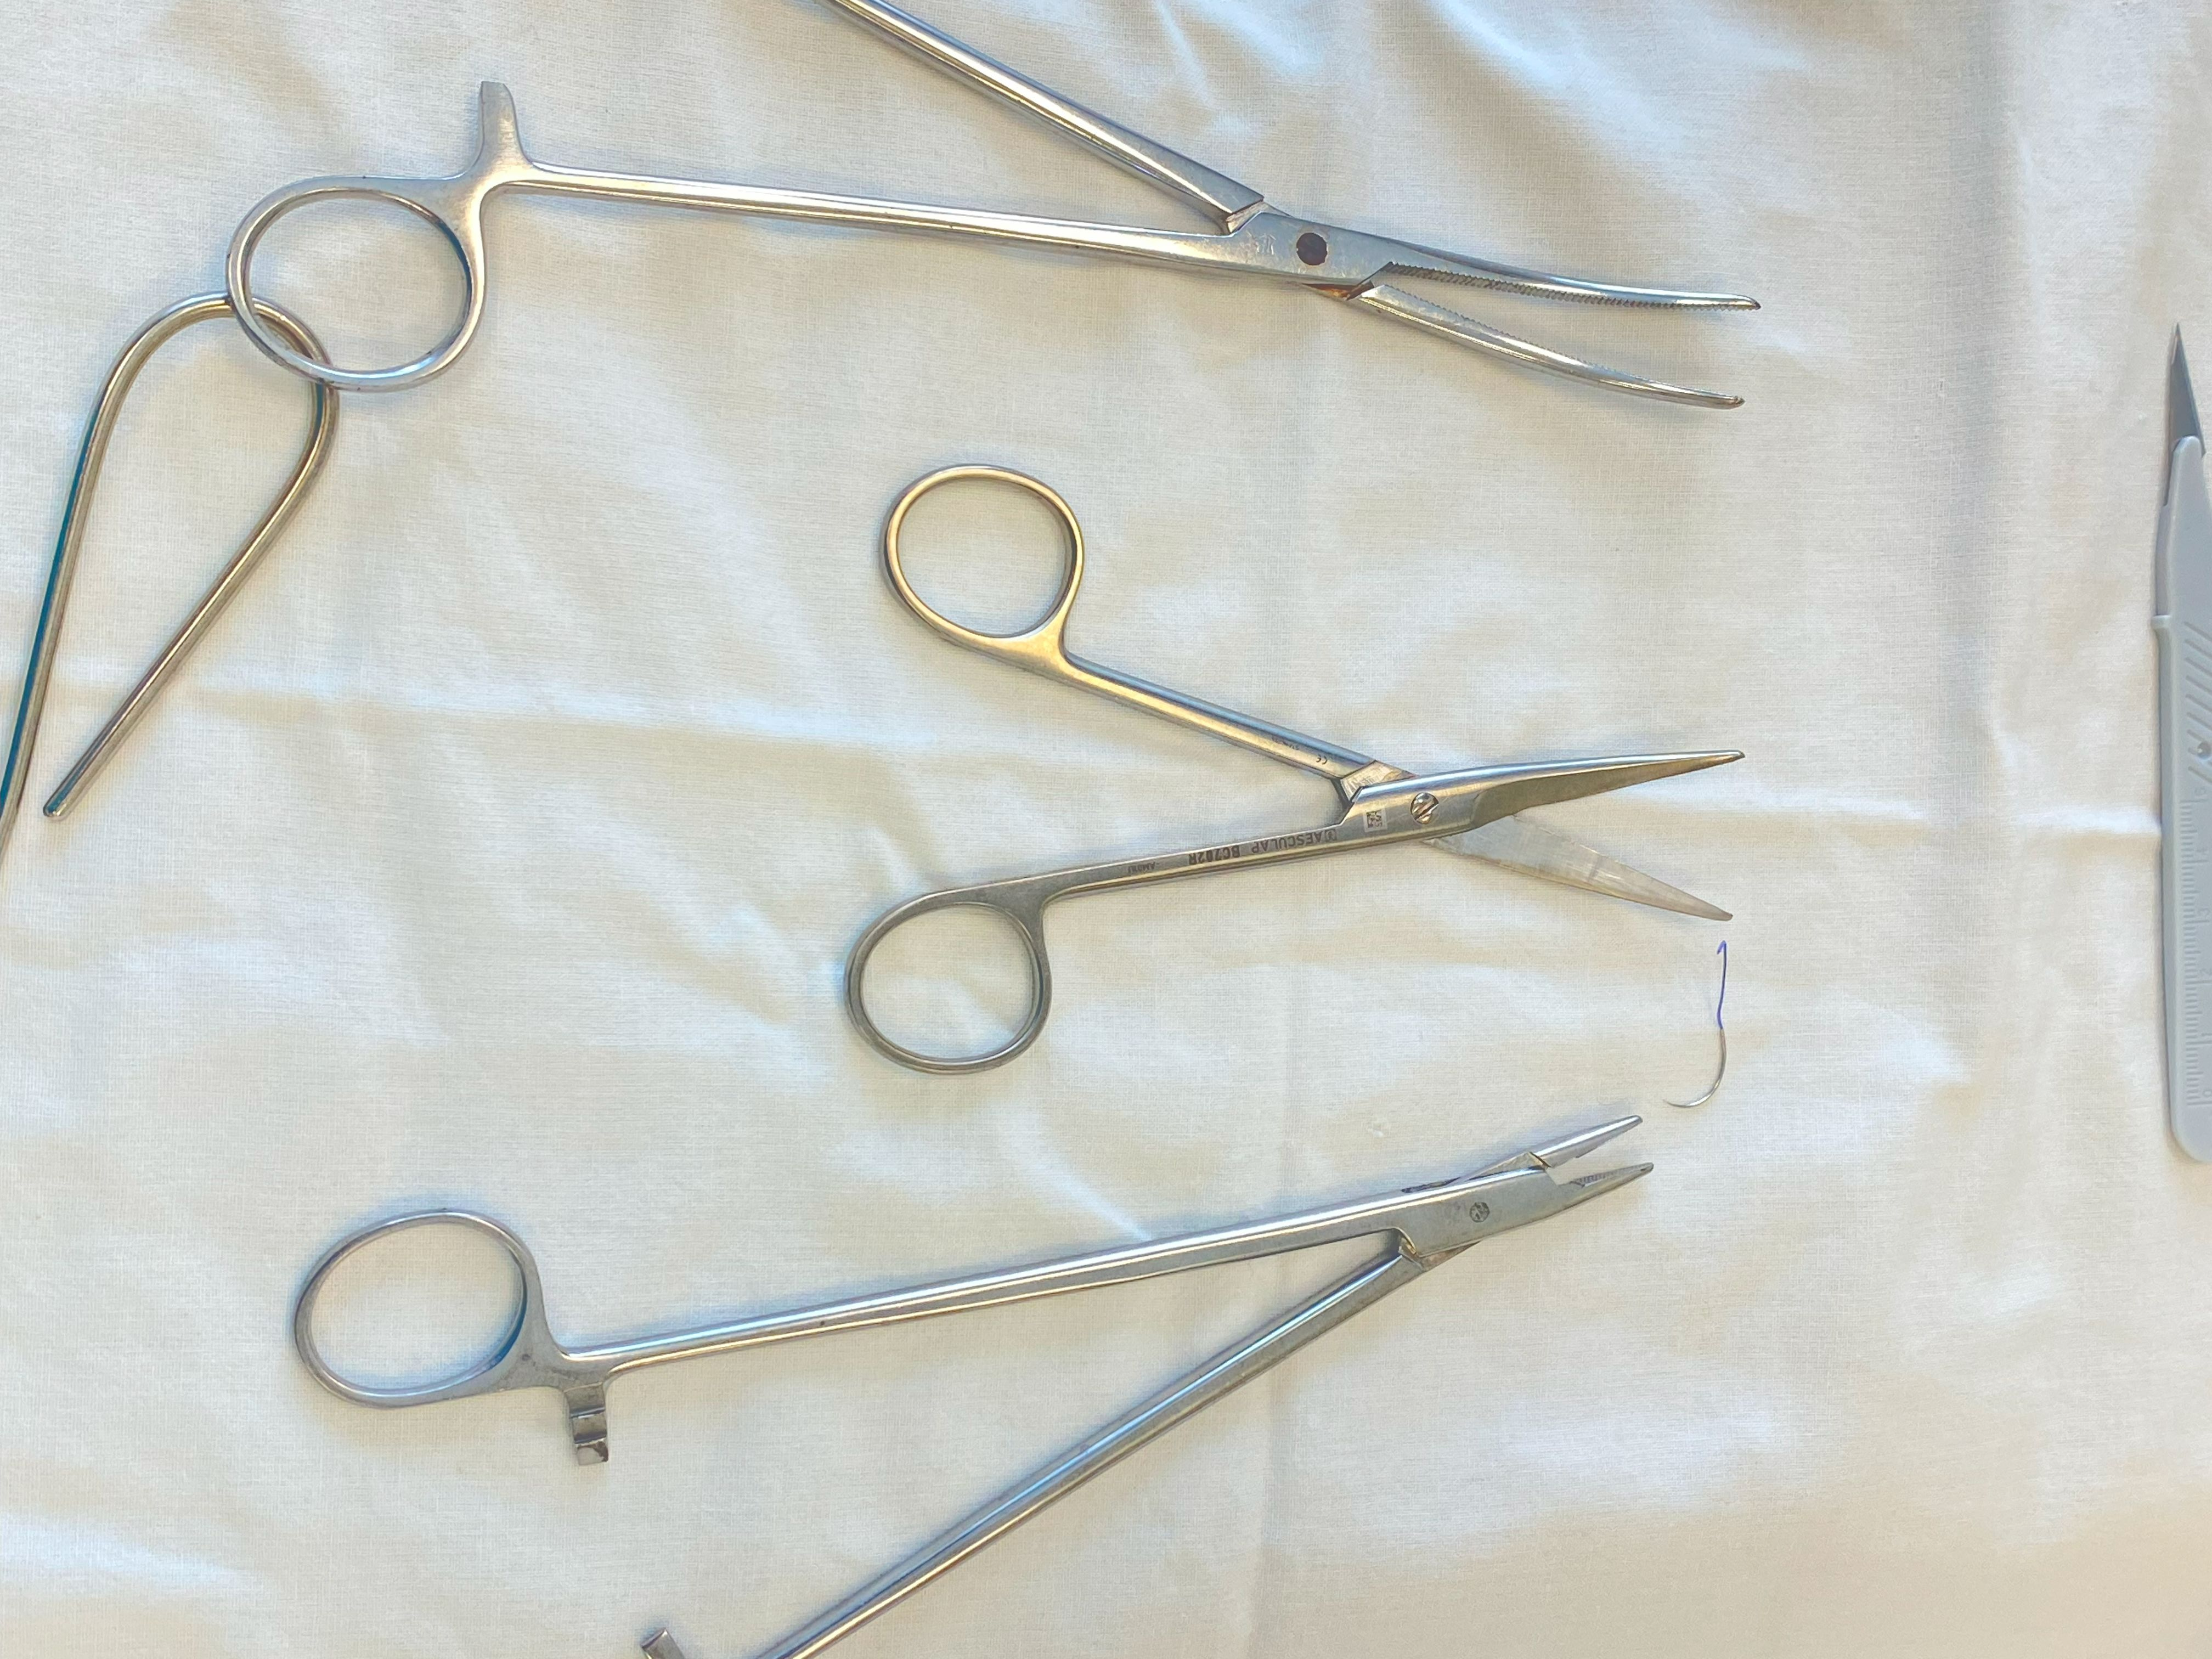clamp: (294, 1117, 1651, 1659), (226, 0, 1759, 406)
scissors: (845, 465, 1742, 1073)
